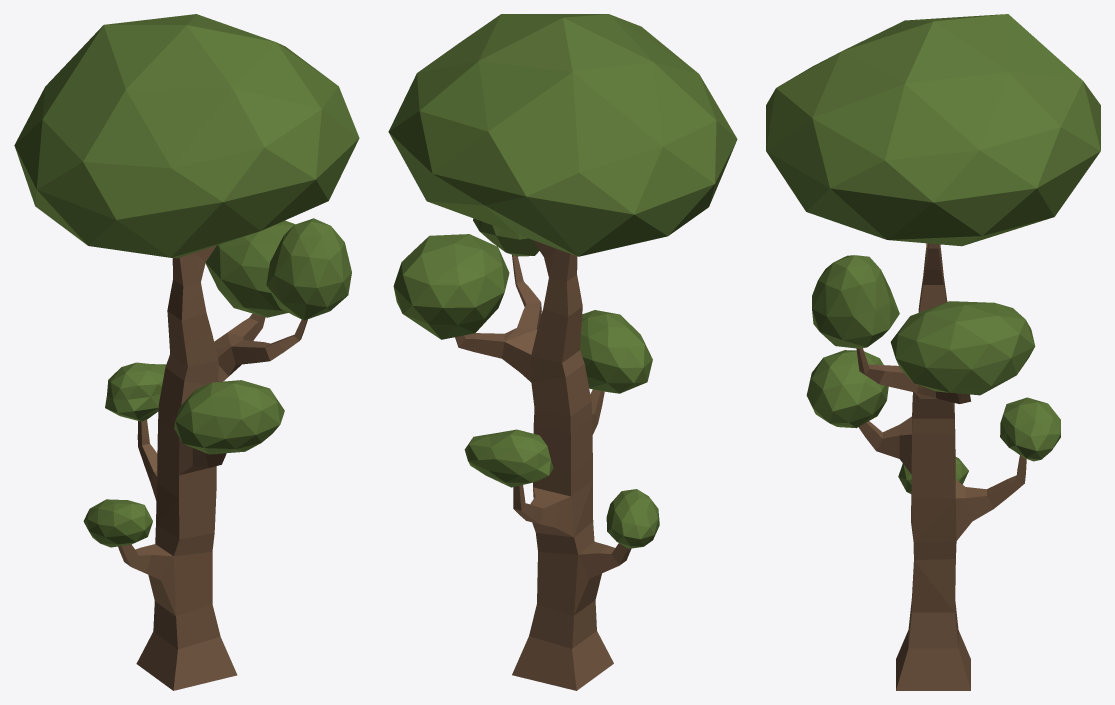
Rendered from SequoiaTree1.fbx.
3 views of the same model, side by side, from view 1: azimuth 30°, elevation 25°; view 2: azimuth 150°, elevation 25°; view 3: azimuth 270°, elevation 25° (orthographic).
Visible parts, largest first — view 1: SequoiaTree1Foliage1, SequoiaTree1, SequoiaTree1Foliage3, SequoiaTree1Foliage4, SequoiaTree1Foliage2, SequoiaTree1Foliage5, SequoiaTree1Foliage6; view 2: SequoiaTree1Foliage1, SequoiaTree1, SequoiaTree1Foliage2, SequoiaTree1Foliage4, SequoiaTree1Foliage5, SequoiaTree1Foliage6, SequoiaTree1Foliage3; view 3: SequoiaTree1Foliage1, SequoiaTree1, SequoiaTree1Foliage2, SequoiaTree1Foliage3, SequoiaTree1Foliage4, SequoiaTree1Foliage5, SequoiaTree1Foliage6.
Part boxes in pixels (x1,y1,x2,y2): SequoiaTree1Foliage1: (14, 14, 359, 258); SequoiaTree1: (118, 245, 307, 690); SequoiaTree1Foliage3: (266, 218, 351, 320); SequoiaTree1Foliage4: (174, 380, 284, 454); SequoiaTree1Foliage2: (205, 220, 295, 317); SequoiaTree1Foliage5: (105, 362, 166, 421); SequoiaTree1Foliage6: (83, 499, 152, 547); SequoiaTree1Foliage1: (388, 14, 737, 256); SequoiaTree1: (455, 240, 631, 690); SequoiaTree1Foliage2: (393, 234, 509, 339); SequoiaTree1Foliage4: (580, 310, 652, 393); SequoiaTree1Foliage5: (464, 429, 553, 487); SequoiaTree1Foliage6: (606, 489, 659, 548); SequoiaTree1Foliage3: (473, 218, 539, 256); SequoiaTree1Foliage1: (766, 14, 1100, 246); SequoiaTree1: (856, 243, 1026, 690); SequoiaTree1Foliage2: (890, 301, 1035, 395); SequoiaTree1Foliage3: (812, 255, 899, 348); SequoiaTree1Foliage4: (806, 350, 888, 428); SequoiaTree1Foliage5: (1000, 397, 1060, 461); SequoiaTree1Foliage6: (898, 457, 968, 493).
Size of the model in its own units: 6.81 by 13.96 by 6.48.
